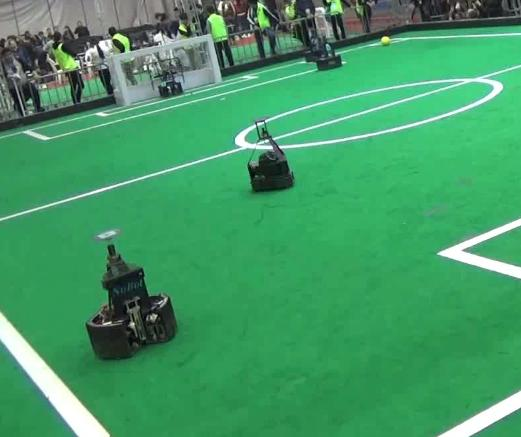robot: (79, 228, 183, 362), (241, 114, 303, 194)
